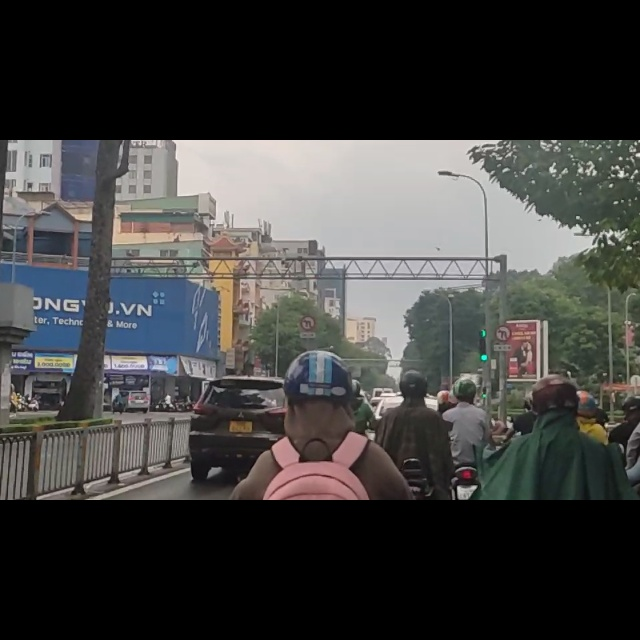bien_cam: (494, 328, 511, 360), (300, 311, 317, 343)
